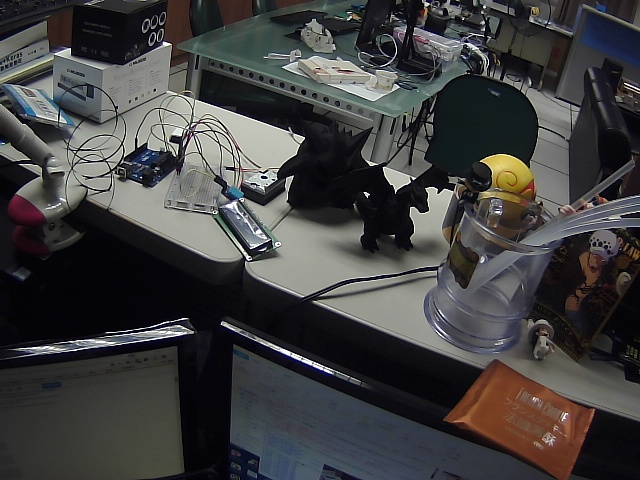frenchcookie: (430, 346, 599, 480)
